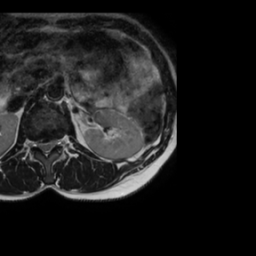CCS_normal: (43, 133, 49, 161)
LFS_normal: (57, 132, 63, 152)
LLS_normal: (50, 134, 57, 155)
RFS_normal: (29, 134, 37, 152)
RLS_stenosis: (37, 134, 43, 156)
